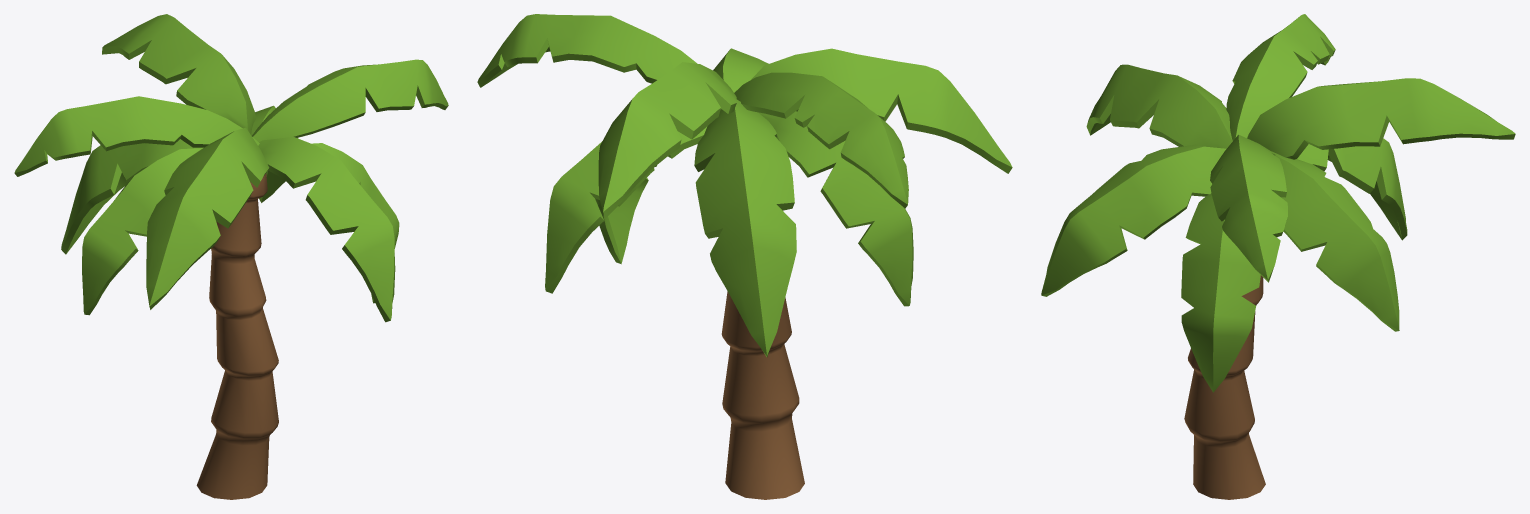
File: Palm Tree.obj
The picture shows the model from 3 angles, left to right: view 1: azimuth 30°, elevation 25°; view 2: azimuth 150°, elevation 25°; view 3: azimuth 270°, elevation 25°; orthographic projection. The views are drawn at different scales.
Visible parts, largest first — view 1: obj1; view 2: obj1; view 3: obj1.
Boxes of the visible parts, x1,y1,x2,y2 form: obj1: (14, 14, 448, 499); obj1: (477, 14, 1012, 499); obj1: (1041, 14, 1515, 499).
Size of the model in its own units: 2.86 by 2.69 by 2.75.
1 material, 1 textured.
